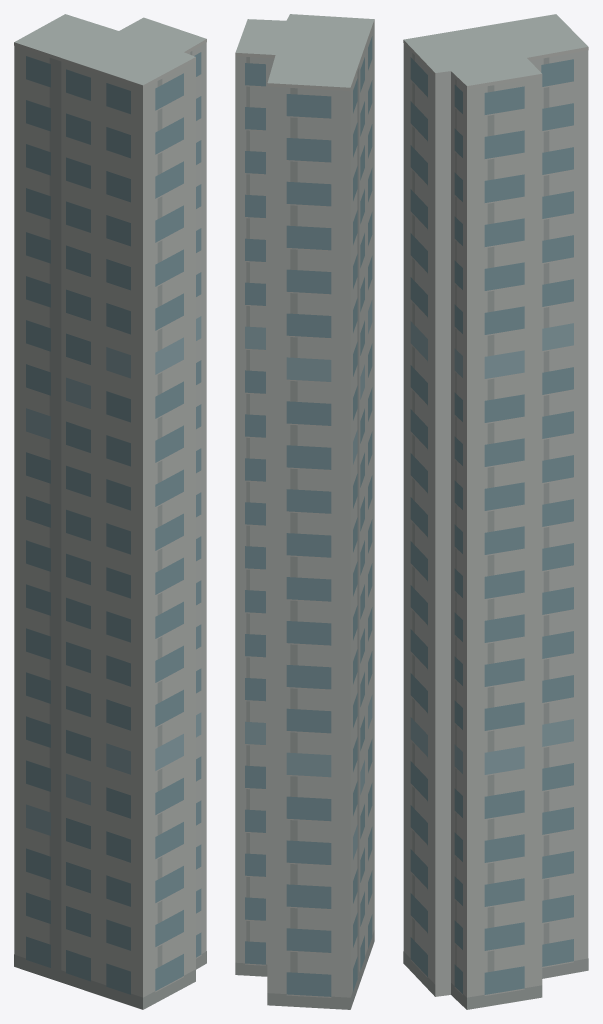
Rendered from survey-upis-32640915.glb.
The picture shows the model from 3 angles, left to right: view 1: azimuth 30°, elevation 25°; view 2: azimuth 150°, elevation 25°; view 3: azimuth 270°, elevation 25°; orthographic projection.
Parts seen in each view (by area): view 1: survey-upis-32640915.tmp; view 2: survey-upis-32640915.tmp; view 3: survey-upis-32640915.tmp.
Boxes of the visible parts, <box> form: survey-upis-32640915.tmp: <box>14,14,206,1009</box>; survey-upis-32640915.tmp: <box>235,14,374,1009</box>; survey-upis-32640915.tmp: <box>403,14,588,1009</box>.
Bounding box in the file's own units: 10.73 × 64.05 × 11.63.
